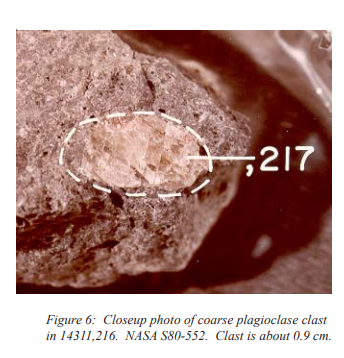Breccia: (16, 27, 252, 287)
